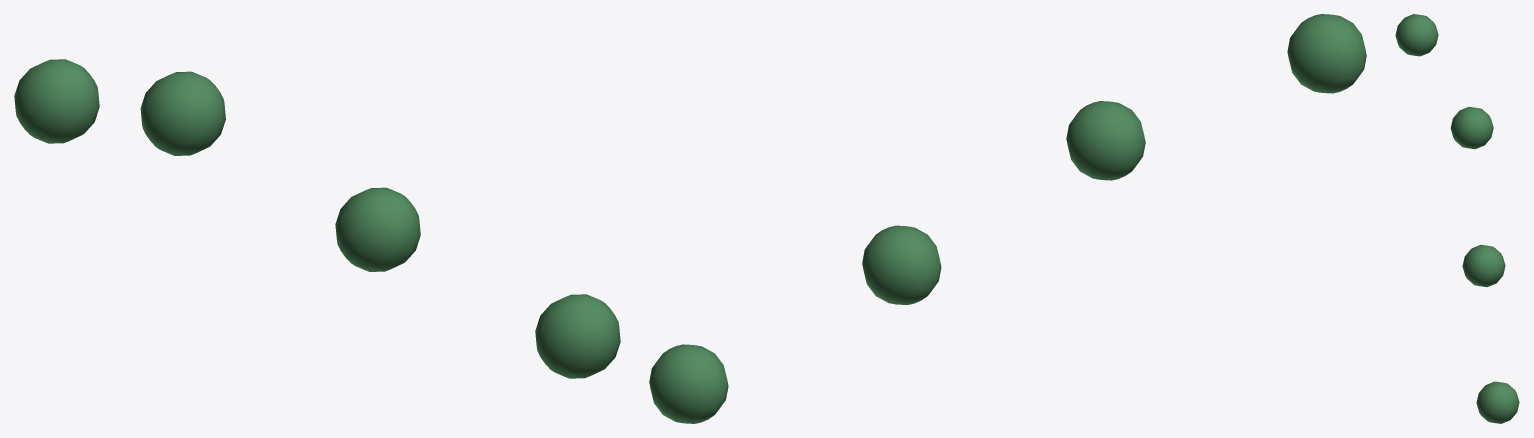
The picture shows the model from 3 angles, left to right: view 1: azimuth 30°, elevation 25°; view 2: azimuth 150°, elevation 25°; view 3: azimuth 270°, elevation 25°; orthographic projection. The views are drawn at different scales.
Visible parts, largest first — view 1: 右侧颏下淋巴结; view 2: 右侧颏下淋巴结; view 3: 右侧颏下淋巴结.
Part boxes in pixels (x1,y1,x2,y2): 右侧颏下淋巴结: (14,59,620,378); 右侧颏下淋巴结: (649,14,1366,423); 右侧颏下淋巴结: (1395,14,1519,423).
Size of the model in its own units: 0.0347 by 0.0254 by 0.011.
